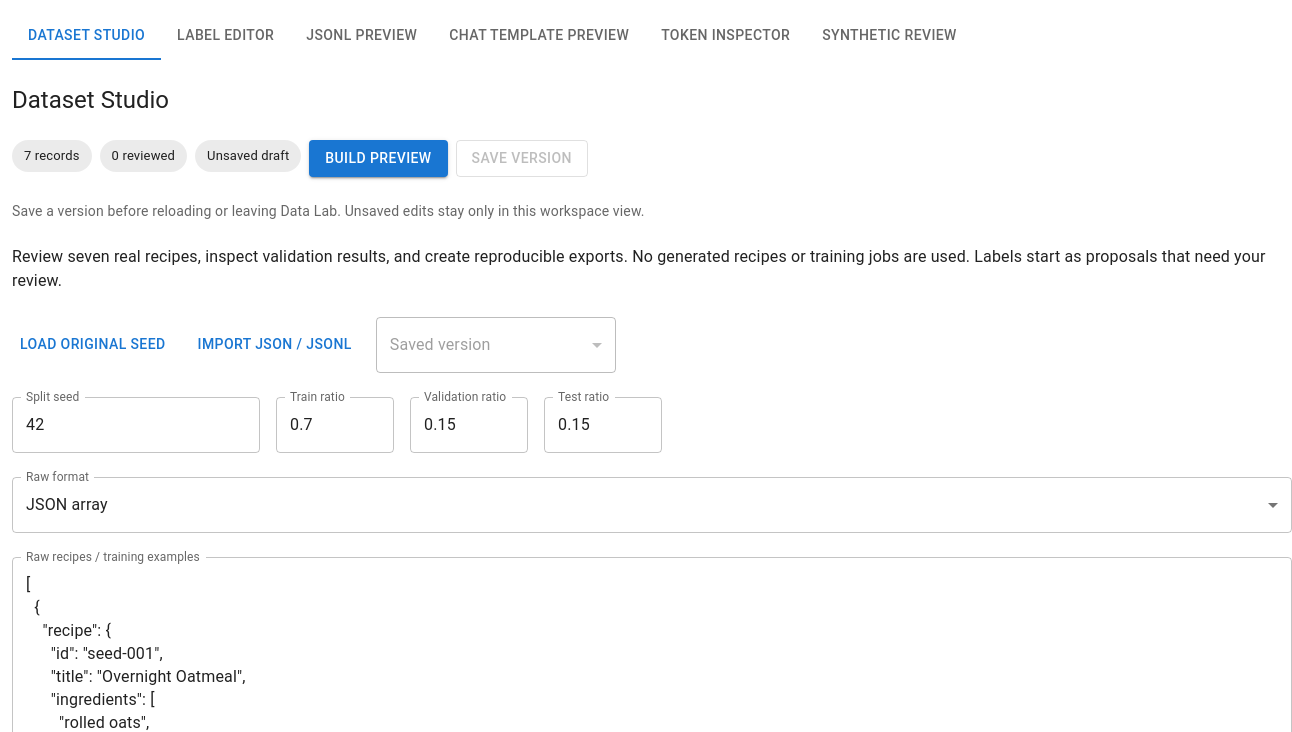
Test case: opens the chat-message preview and retains the Token Inspector tab
Expected: the text "7 records" is shown, [24, 148, 80, 163]
What coordinates should you click on to do the following:
click the tab "Chat Template Preview"
I would click on:
 (539, 36)
Its box is [433, 12, 645, 60].
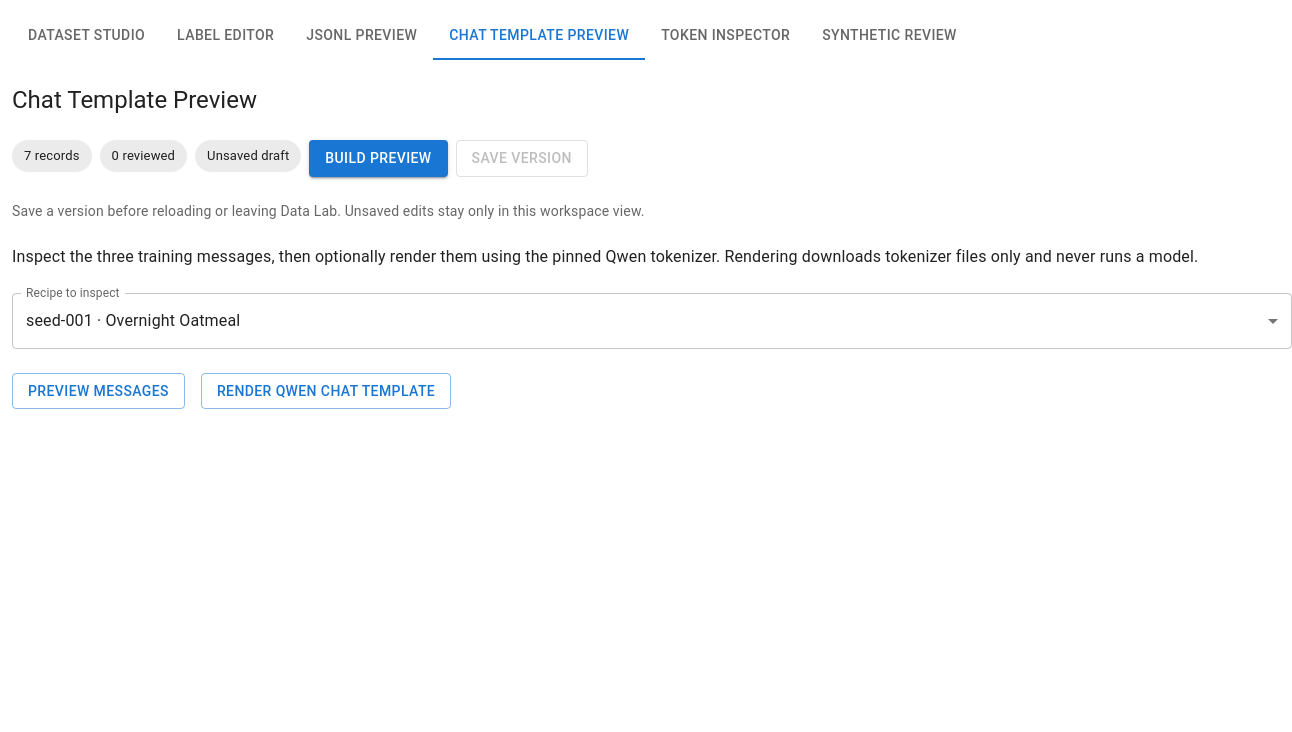
What coordinates should you click on to do the following:
click the button "Preview messages"
I would click on:
 (98, 391)
Its box is [12, 372, 185, 409].
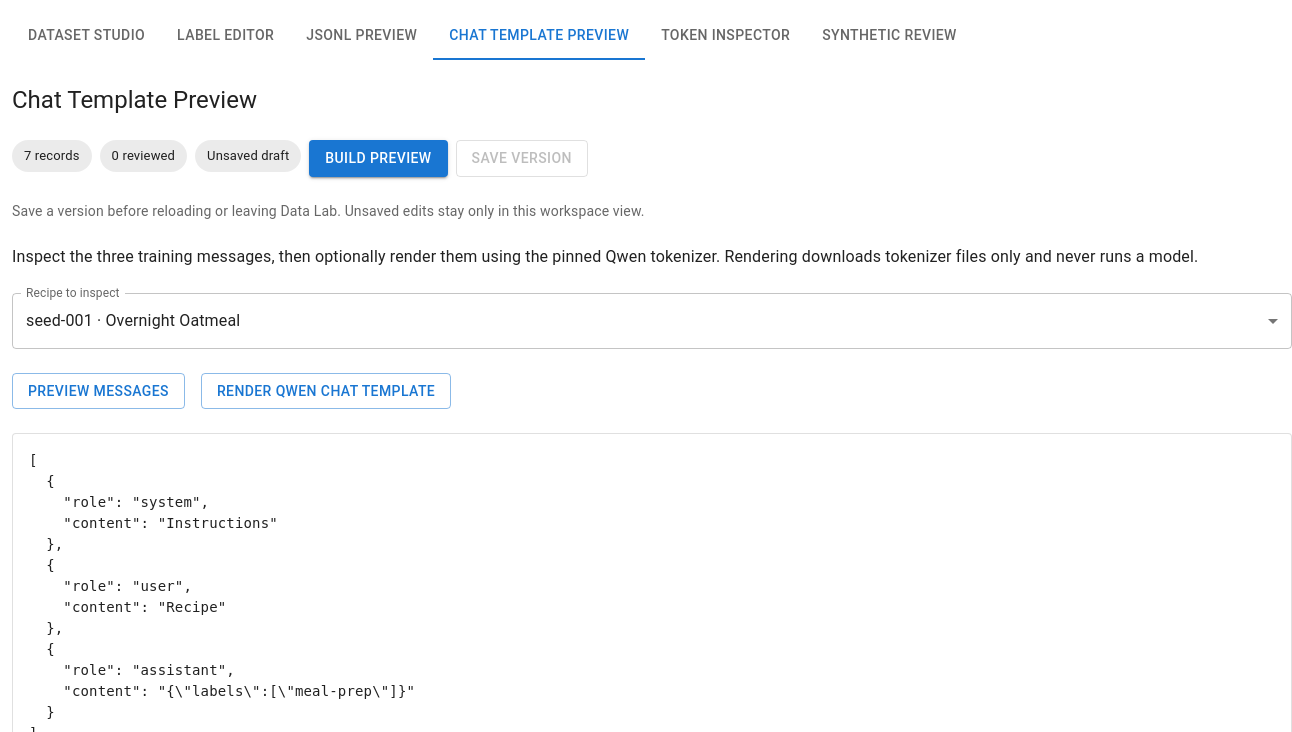
What coordinates should you click on to do the following:
click the tab "Token Inspector"
I would click on:
 (726, 36)
Its box is [645, 12, 806, 60].
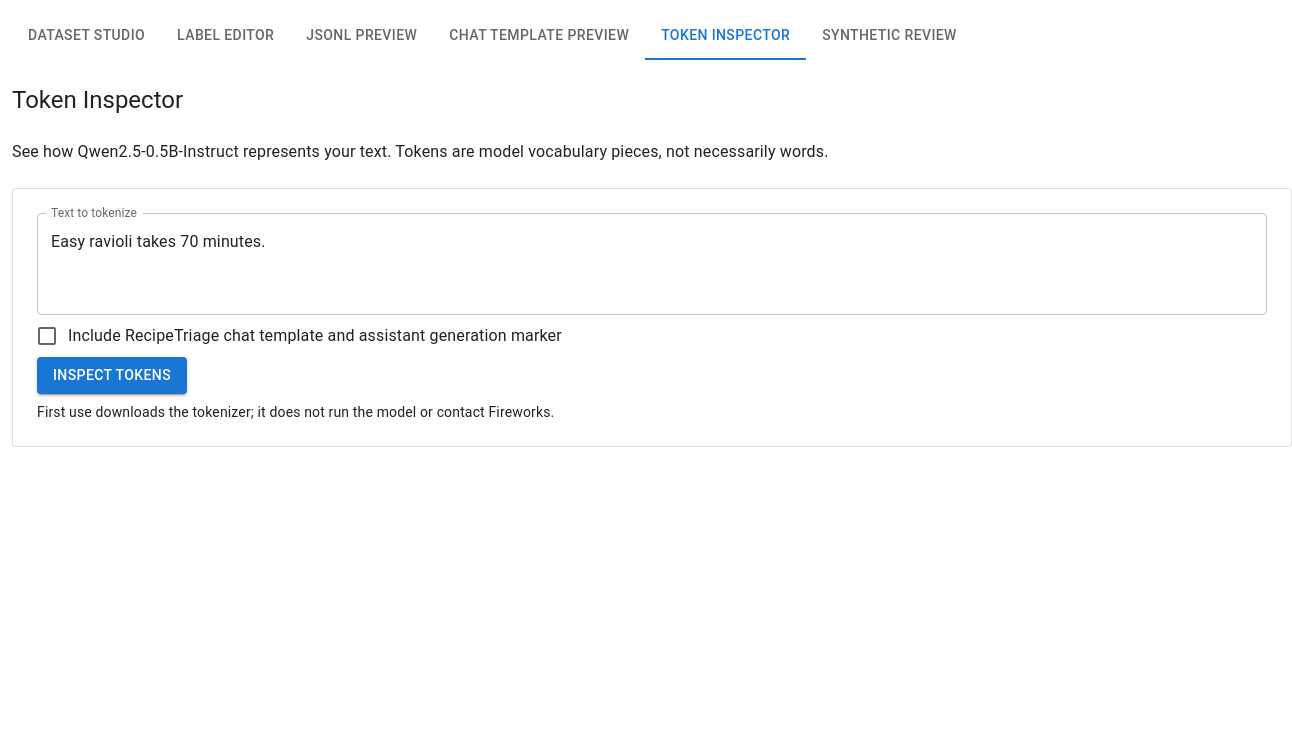
Result: the button "Inspect tokens" is shown at [37, 357, 187, 394]
